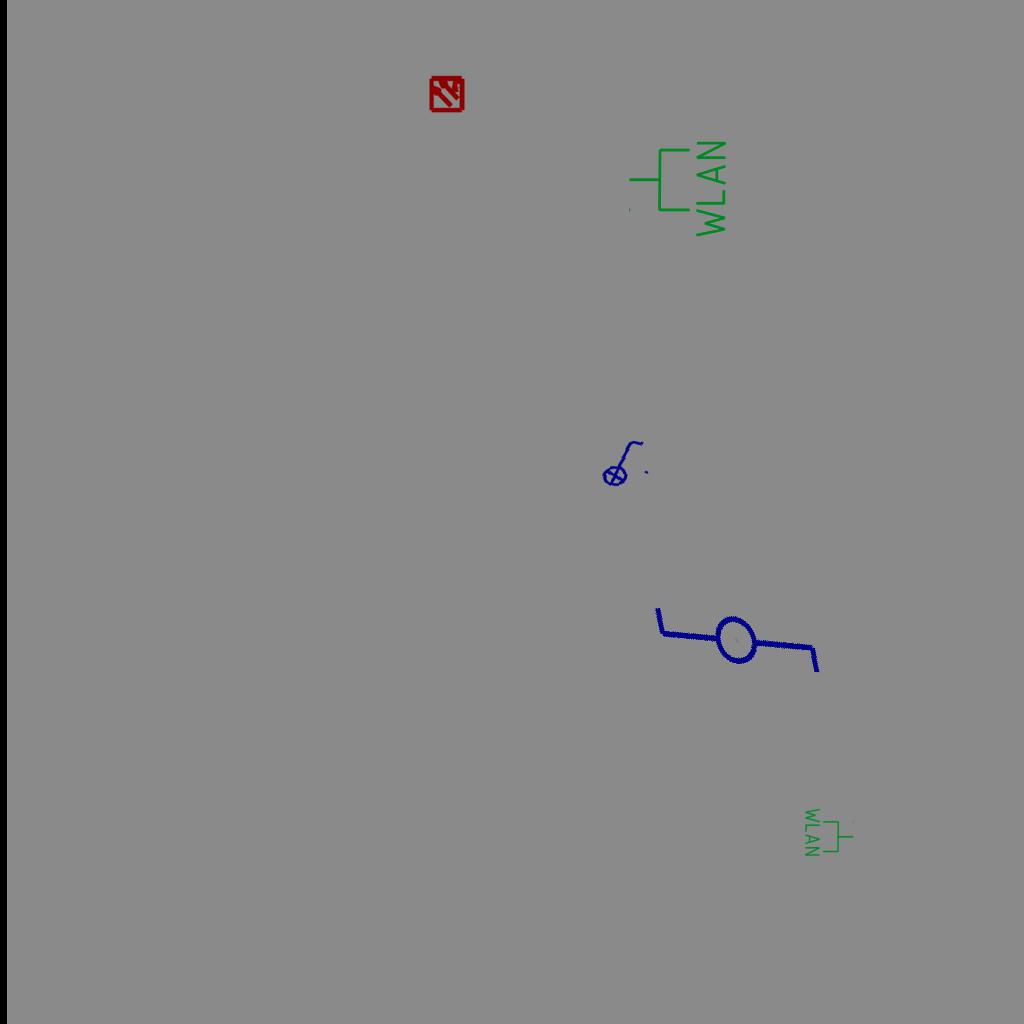Ausschalter_beleuchtet: (591, 434, 653, 490)
OT_Multisensormelder_(Kombination_RMO_WMD): (419, 65, 475, 121)
WLAN: (626, 137, 730, 242), (803, 806, 855, 858)
Wechselschalter: (634, 529, 835, 735)
